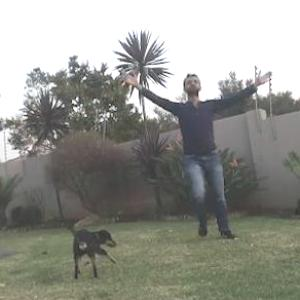takeoff: (132, 77, 270, 221)
